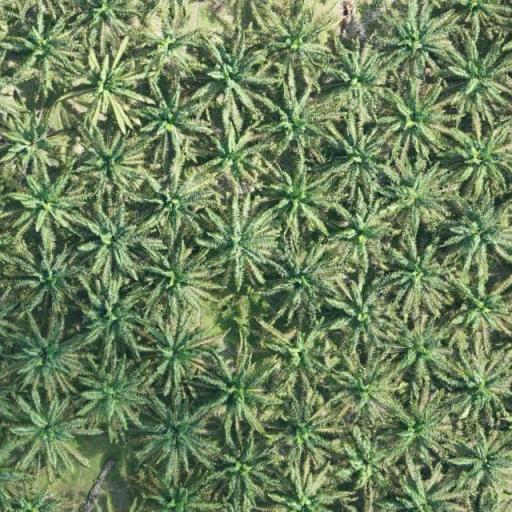Ganoderma: (79, 63, 127, 107), (153, 25, 192, 62)
